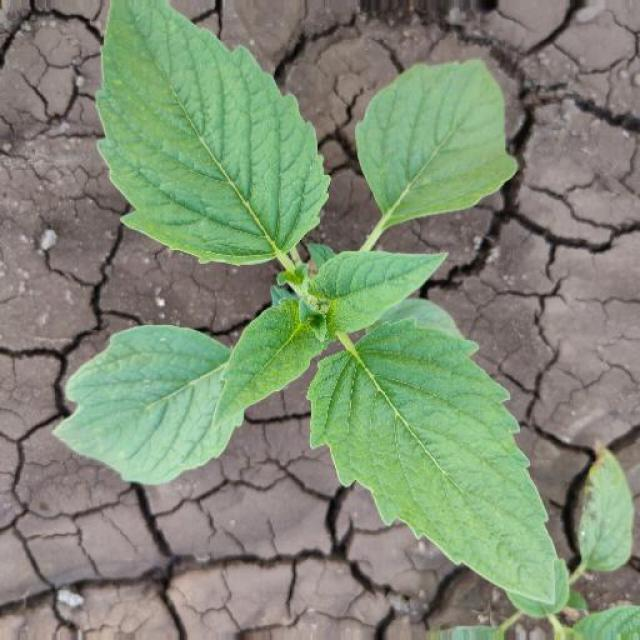crop: (56, 2, 572, 602)
